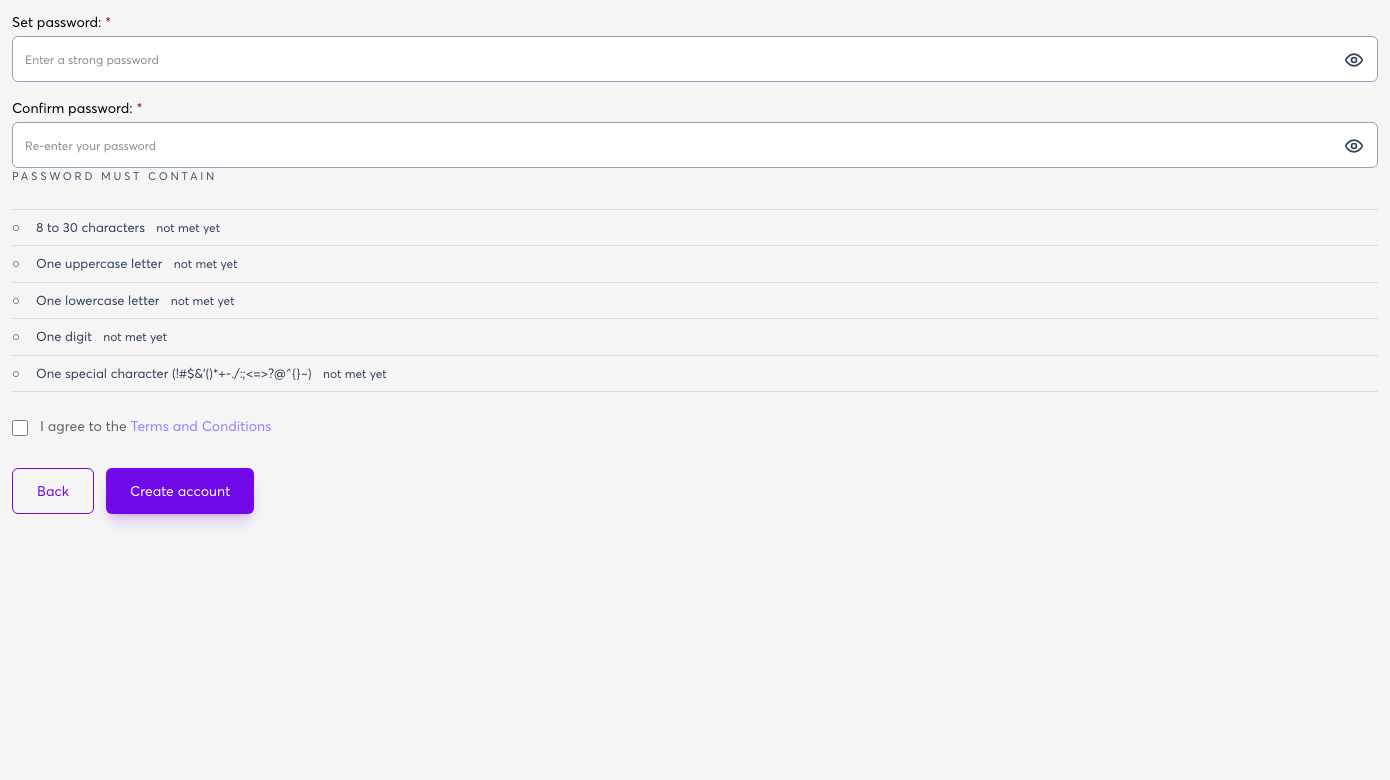
Test: offers sign in when the email already has an account, keeping the server wording
Type "StrongPass1!" into the password field labelled "Set password:".
click(695, 59); type("StrongPass1!")  # box [12,36,1378,82]
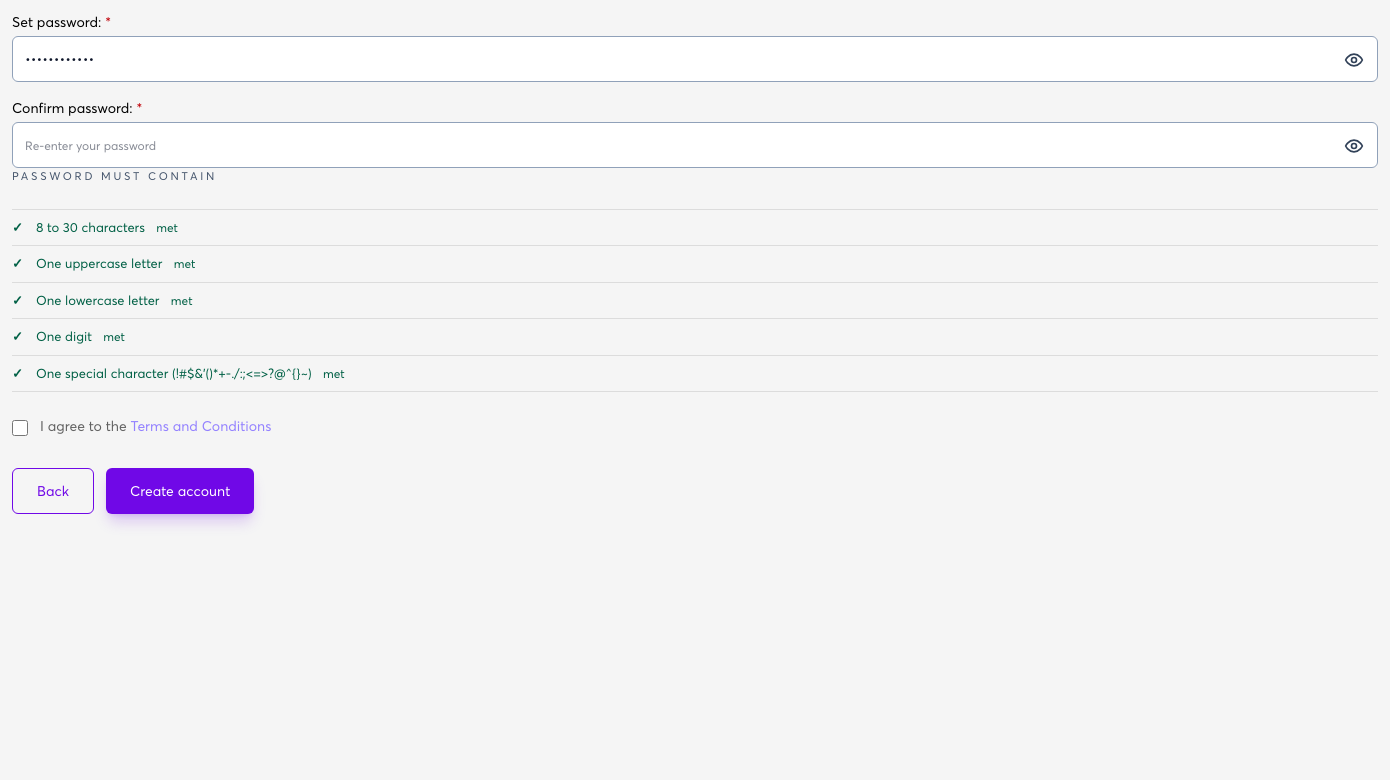
Type "StrongPass1!" into the password field labelled "Confirm password:".
click(695, 145); type("StrongPass1!")  # box [12,122,1378,168]
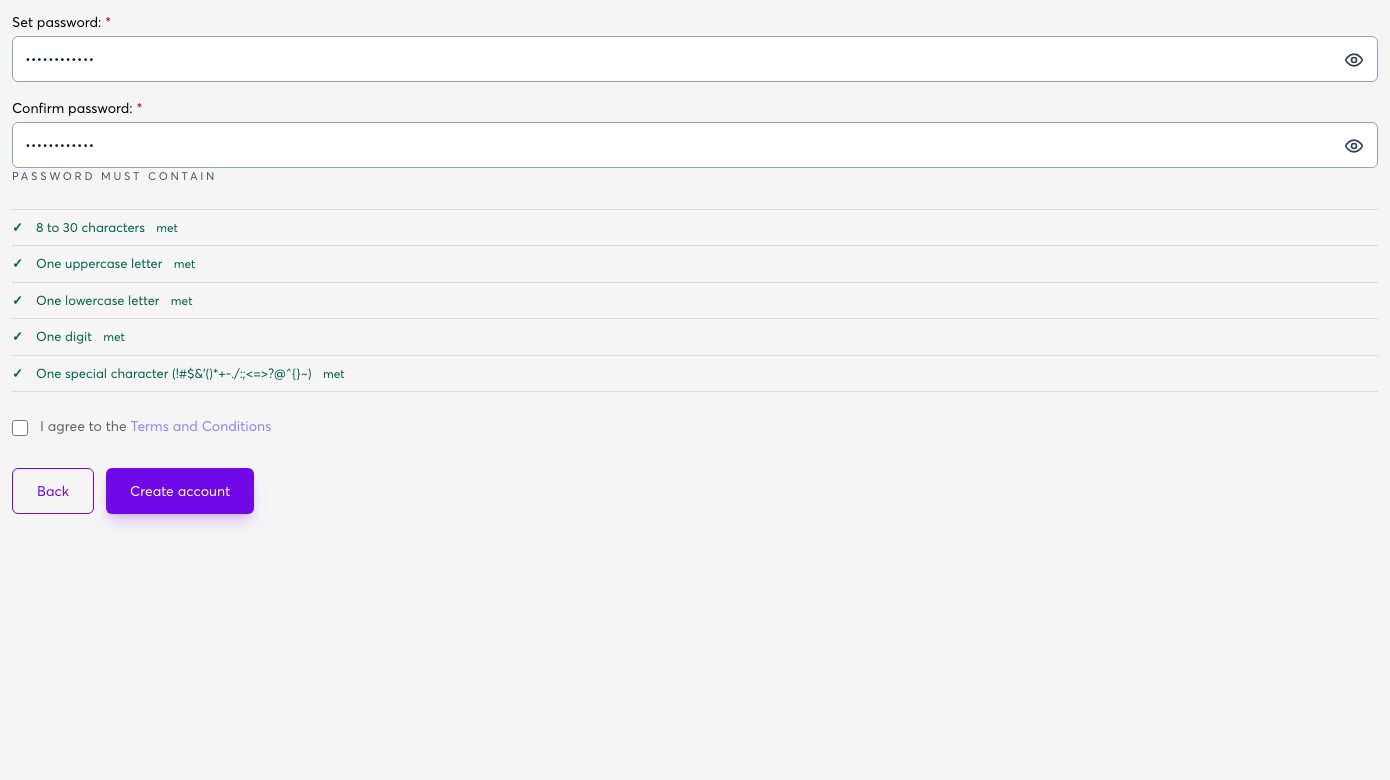
Click the checkbox.
click(20, 428)  # box [12,420,28,436]
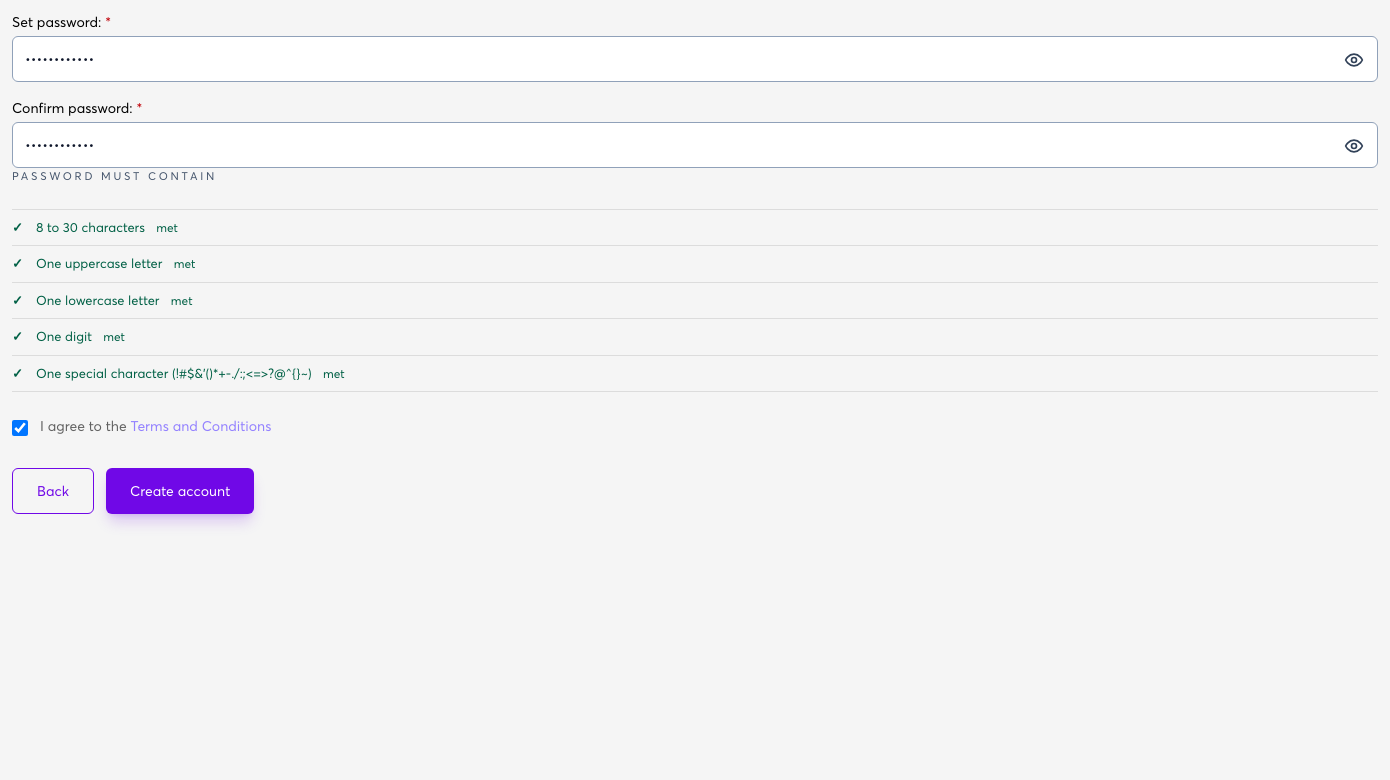
Click the button "Create account".
click(180, 491)  # box [106,468,254,514]
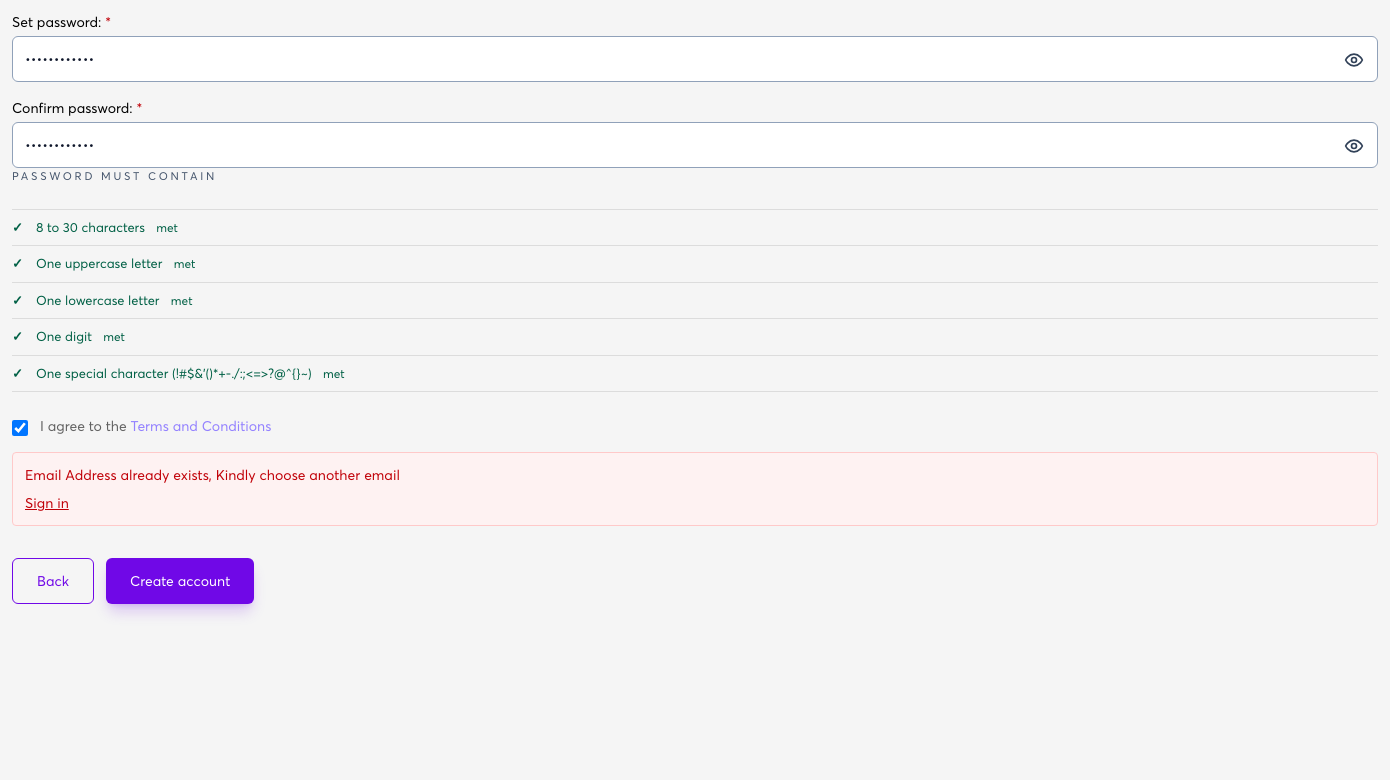
Expected: the message shows "already exists", [25,466,400,483]
